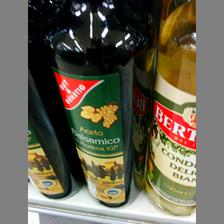Essig: (48, 24, 136, 206), (146, 2, 198, 214)
